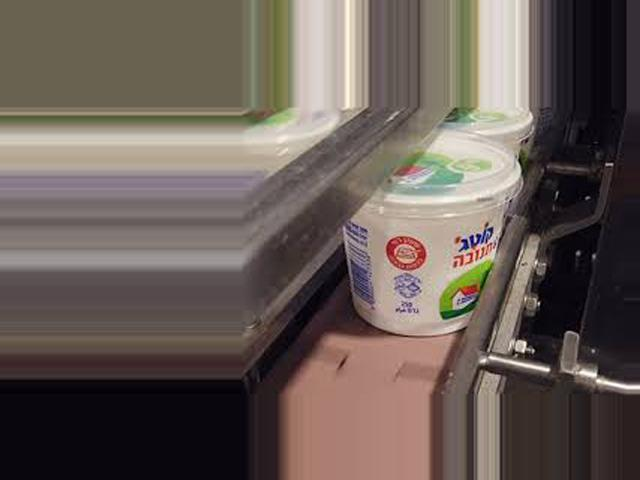cotage: (336, 133, 508, 330)
